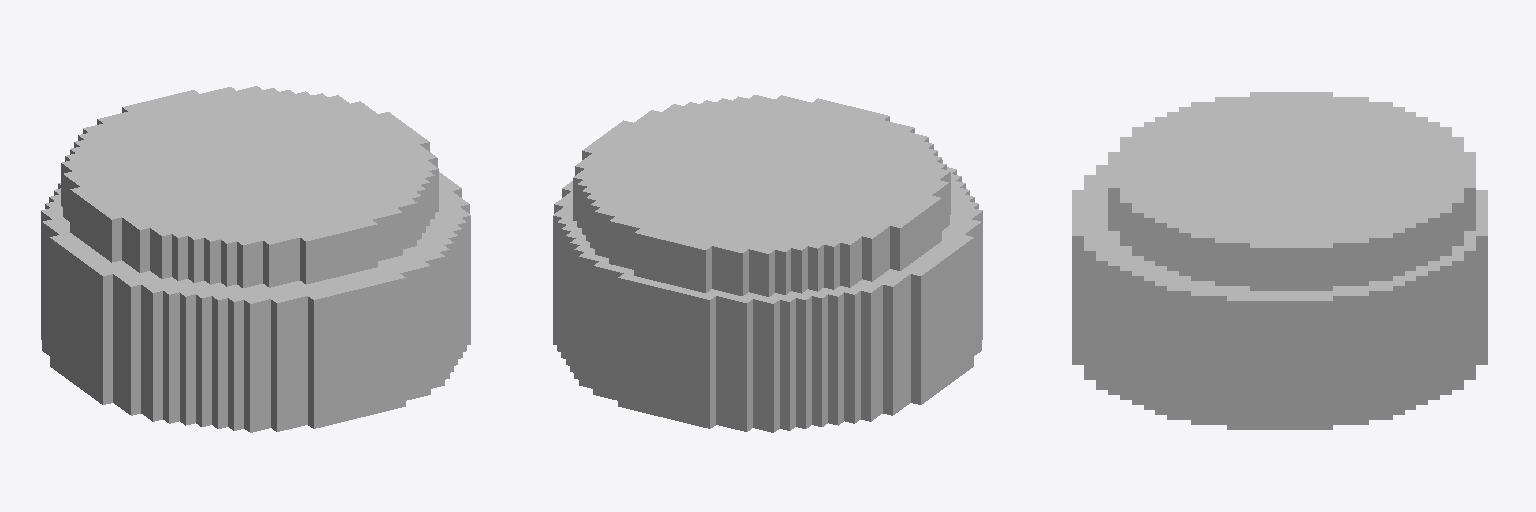
Rendered from sasso piccolo.obj.
3 views of the same model, side by side, from view 1: azimuth 30°, elevation 25°; view 2: azimuth 150°, elevation 25°; view 3: azimuth 270°, elevation 25° (orthographic).
Bounding box in the file's own units: 35 × 16 × 35.